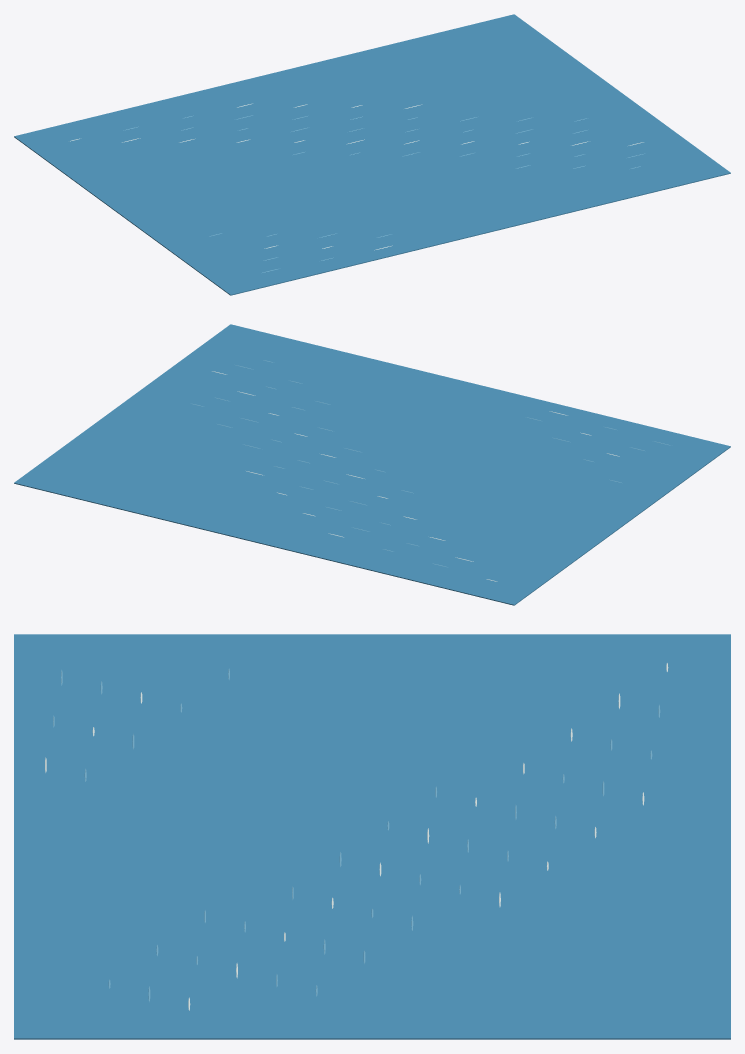
Rendered from mar.glb.
The picture shows the model from 3 angles, top to bottom: view 1: azimuth 30°, elevation 25°; view 2: azimuth 150°, elevation 25°; view 3: azimuth 270°, elevation 25°; orthographic projection. The views are drawn at different scales.
Parts seen in each view (by area): view 1: mar; view 2: mar; view 3: mar.
Boxes of the visible parts, bbox=[...] form: mar: bbox=[14, 14, 730, 295]; mar: bbox=[14, 324, 730, 605]; mar: bbox=[14, 634, 730, 1039].
Size of the model in its own units: 120 by 0.285 by 90.
